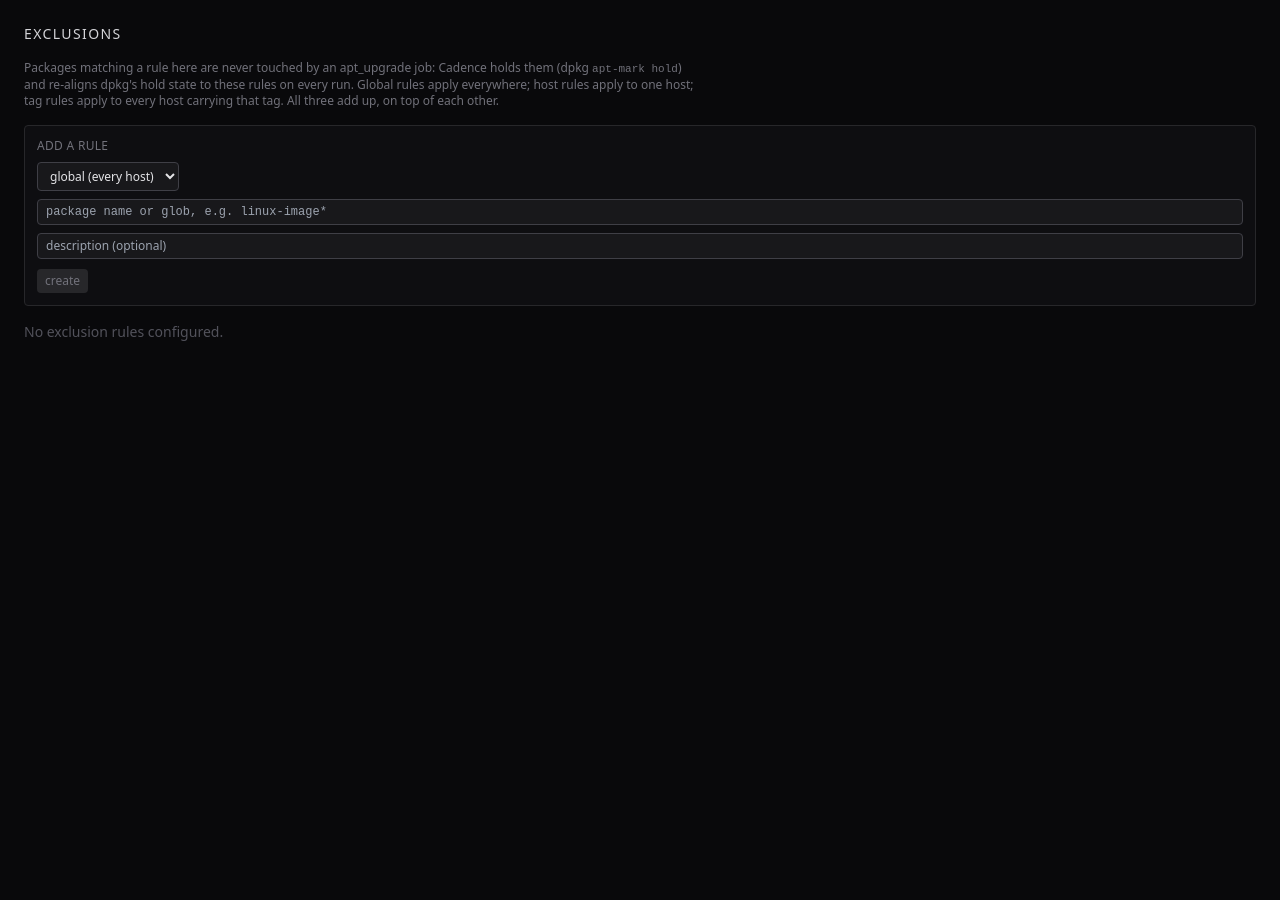
Test: ExclusionsView › creates a global rule
Expected: the text "No exclusion rules configured." is shown, left=24, top=322, right=223, bottom=341
Expected: the button "create" is disabled, left=37, top=269, right=88, bottom=293
Type "linux-image*" into the field with placeholder "package name or glob, e.g. linux-image*".
click(640, 212); type("linux-image*")  # box left=37, top=199, right=1243, bottom=225
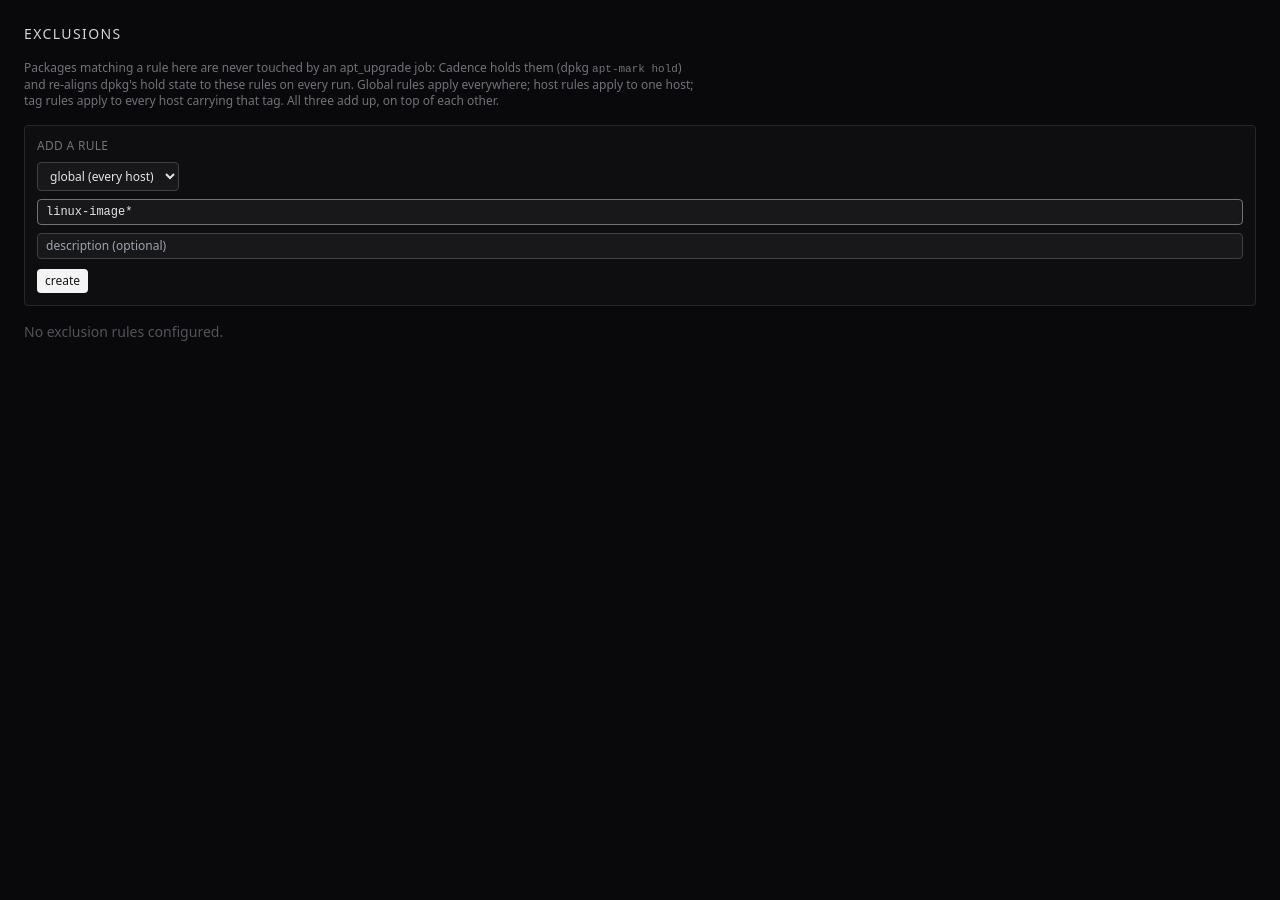
Expected: the button "create" is enabled
Click the button "create".
click(63, 281)  # box left=37, top=269, right=88, bottom=293
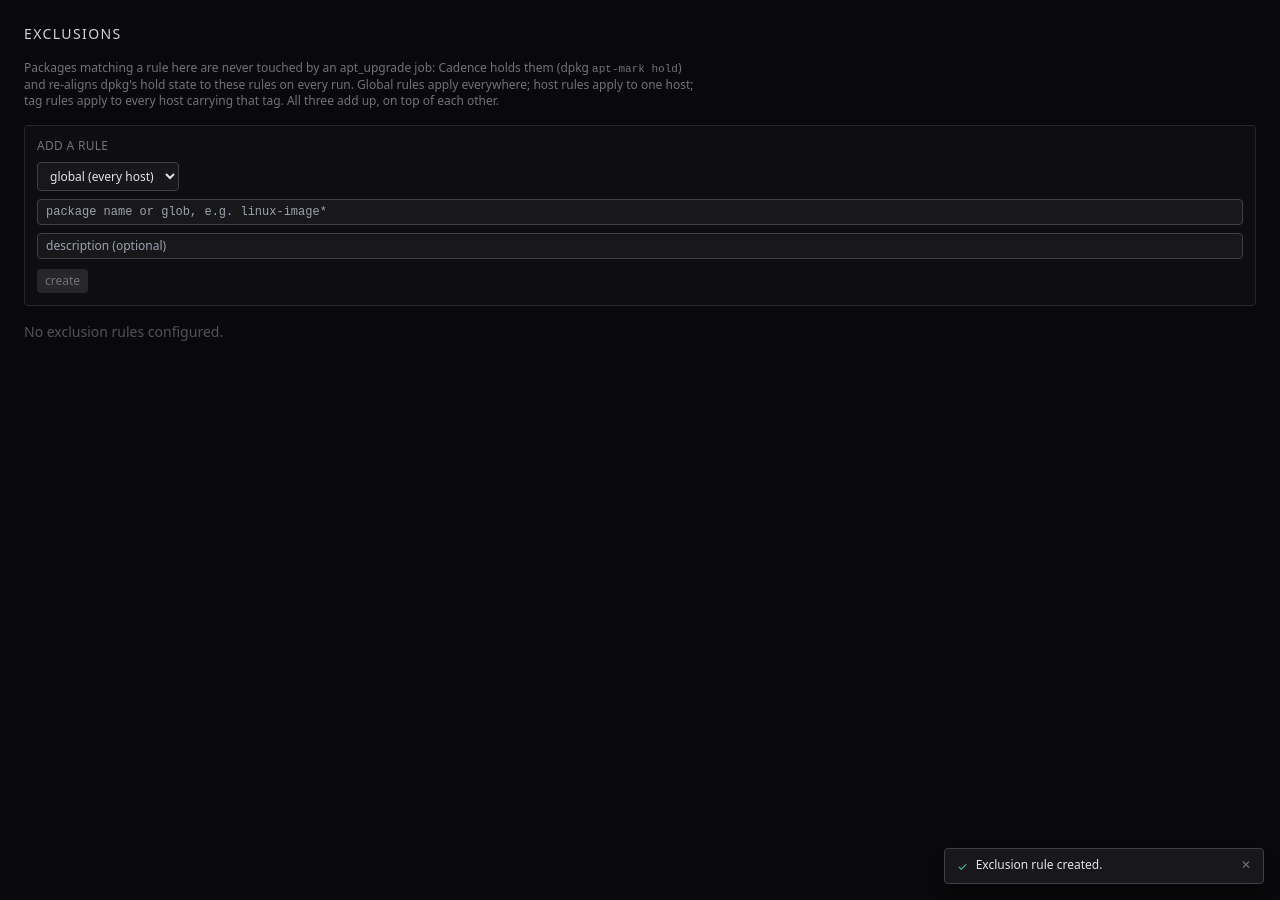
Expected: the text "Exclusion rule created." is shown, left=976, top=856, right=1102, bottom=873
